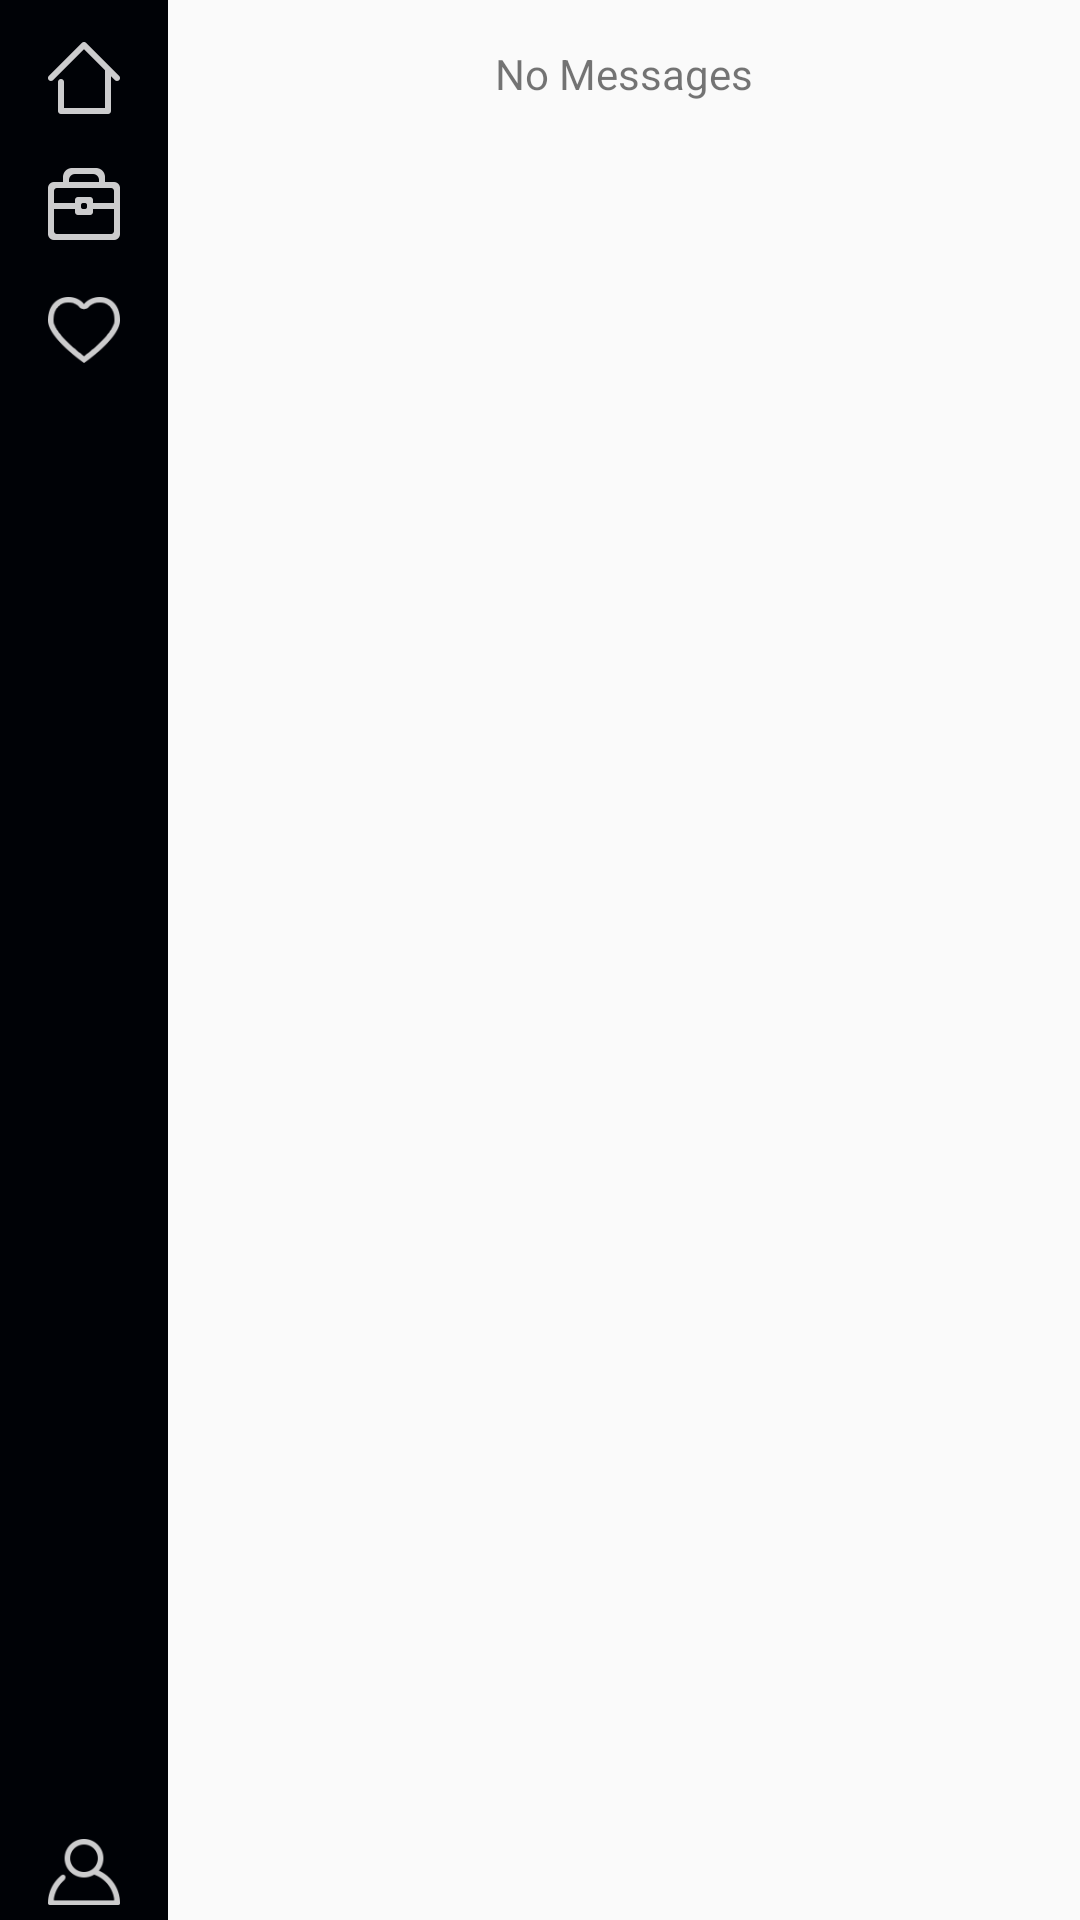

Icons on this 1080*1920 Android screen, each with the point to tap as (x=x, y=y):
account: (x=84, y=1872)
fav: (x=84, y=330)
home: (x=84, y=78)
trip: (x=84, y=204)
